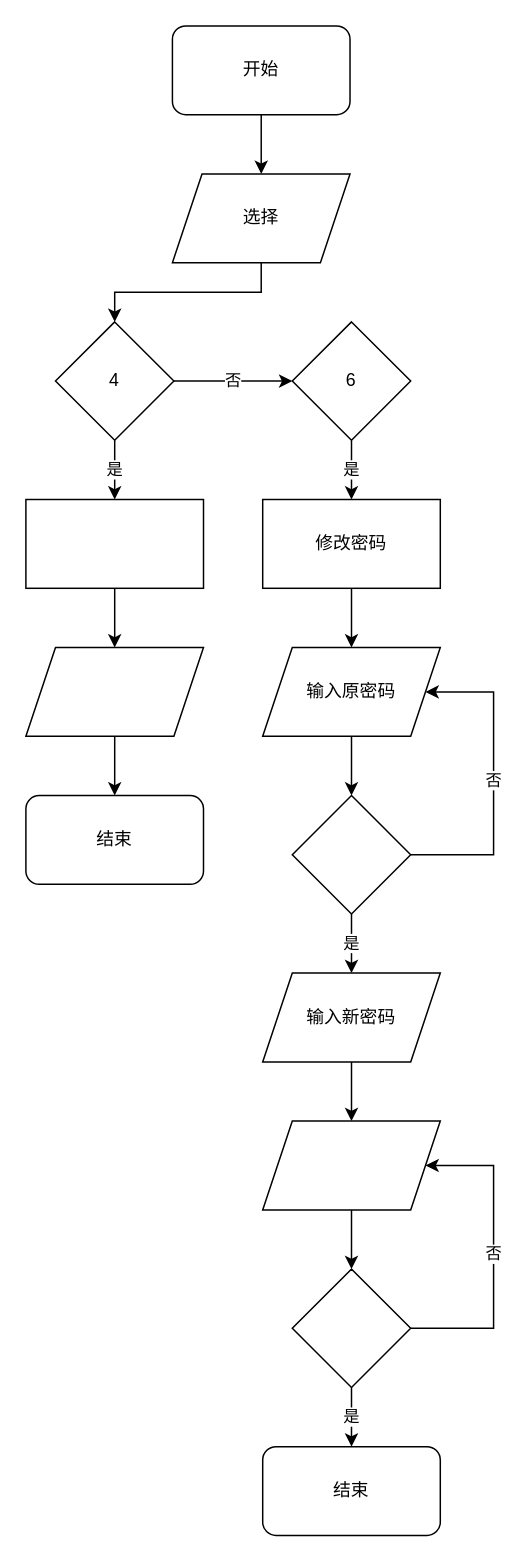
Image size: 531x1561. Some labels were removed from this diagram. Here are the shapes that lost their labels. From the top down, the centre of each, then its label:
At [114,543]: "查看借阅情况".
At [114,691]: "输出已借阅书籍".
At [351,854]: "是否正确".
At [350,1165]: "再次输入新密码".
At [351,1328]: "是否相等".
